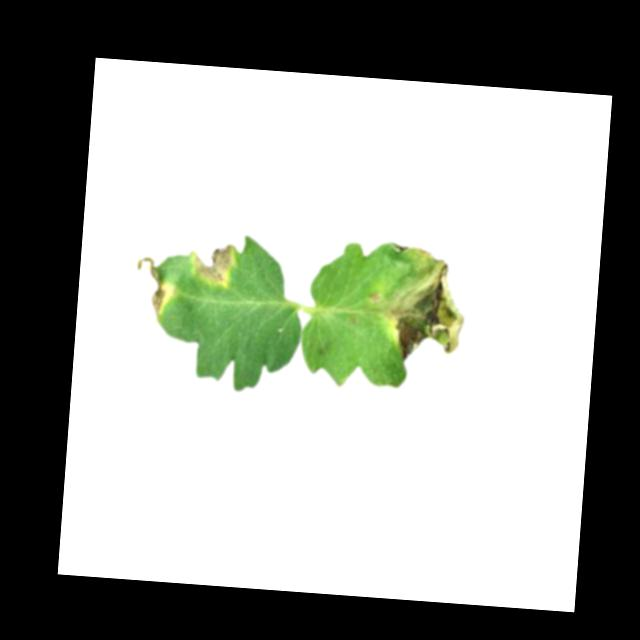Late_blight: (365, 242, 471, 365), (131, 254, 178, 321), (186, 239, 234, 286)
